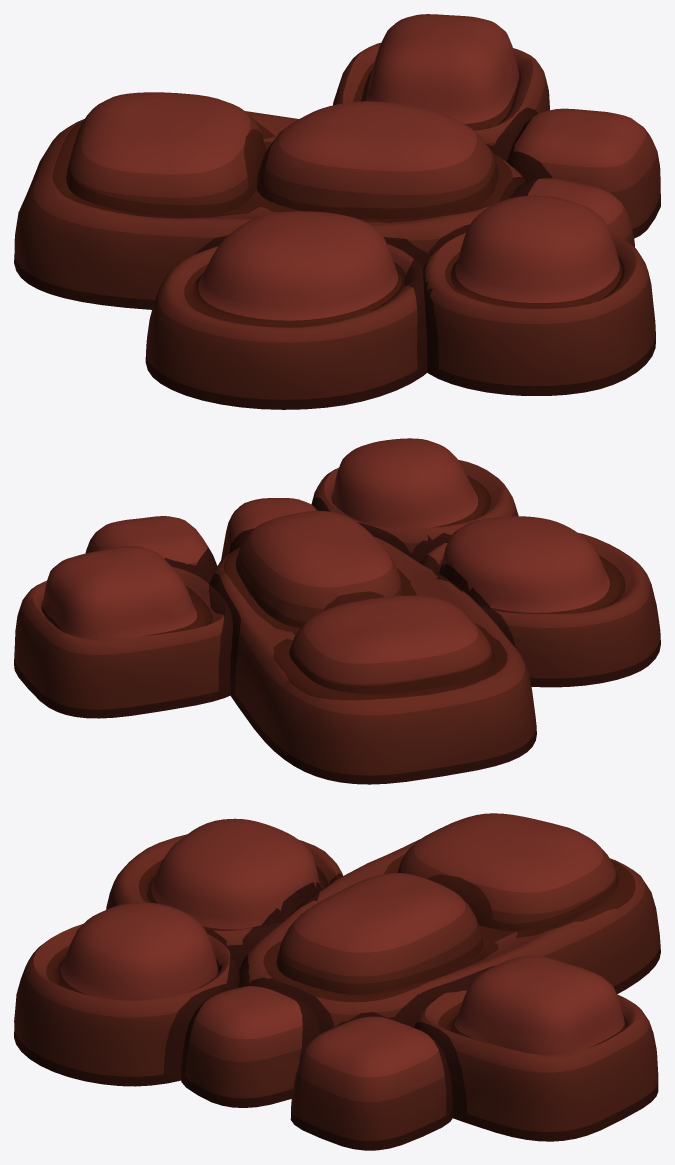
The model's file is bubbles.glb.
The picture shows the model from 3 angles, top to bottom: view 1: azimuth 30°, elevation 25°; view 2: azimuth 150°, elevation 25°; view 3: azimuth 270°, elevation 25°; orthographic projection. The views are drawn at different scales.
Visible parts, largest first — view 1: lower_left, bottom, pill, pill_ridge, pill_pad, upper_right, right, small; view 2: pill, upper_right, lower_left, pill_pad, bottom, pill_ridge, right, small; view 3: upper_right, bottom, pill, lower_left, pill_ridge, pill_pad, right, small.
Boxes of the visible parts, x1=… form: lower_left: x1=145, y1=211, x2=427, y2=409; bottom: x1=423, y1=195, x2=655, y2=395; pill: x1=14, y1=111, x2=525, y2=309; pill_ridge: x1=257, y1=101, x2=498, y2=219; pill_pad: x1=66, y1=92, x2=265, y2=216; upper_right: x1=333, y1=14, x2=549, y2=161; right: x1=506, y1=108, x2=660, y2=238; small: x1=510, y1=178, x2=634, y2=247; pill: x1=210, y1=537, x2=536, y2=784; upper_right: x1=14, y1=546, x2=232, y2=718; lower_left: x1=420, y1=516, x2=660, y2=687; pill_pad: x1=289, y1=595, x2=495, y2=693; bottom: x1=311, y1=438, x2=518, y2=562; pill_ridge: x1=235, y1=510, x2=404, y2=627; right: x1=85, y1=516, x2=217, y2=583; small: x1=221, y1=498, x2=318, y2=560; upper_right: x1=414, y1=955, x2=658, y2=1141; bottom: x1=14, y1=902, x2=239, y2=1086; pill: x1=238, y1=839, x2=660, y2=1033; lower_left: x1=106, y1=818, x2=342, y2=969; pill_ridge: x1=276, y1=873, x2=483, y2=994; pill_pad: x1=397, y1=813, x2=618, y2=931; right: x1=290, y1=1016, x2=452, y2=1150; small: x1=181, y1=985, x2=320, y2=1107.
Size of the model in its own units: 23.98 by 5.44 by 24.89.
